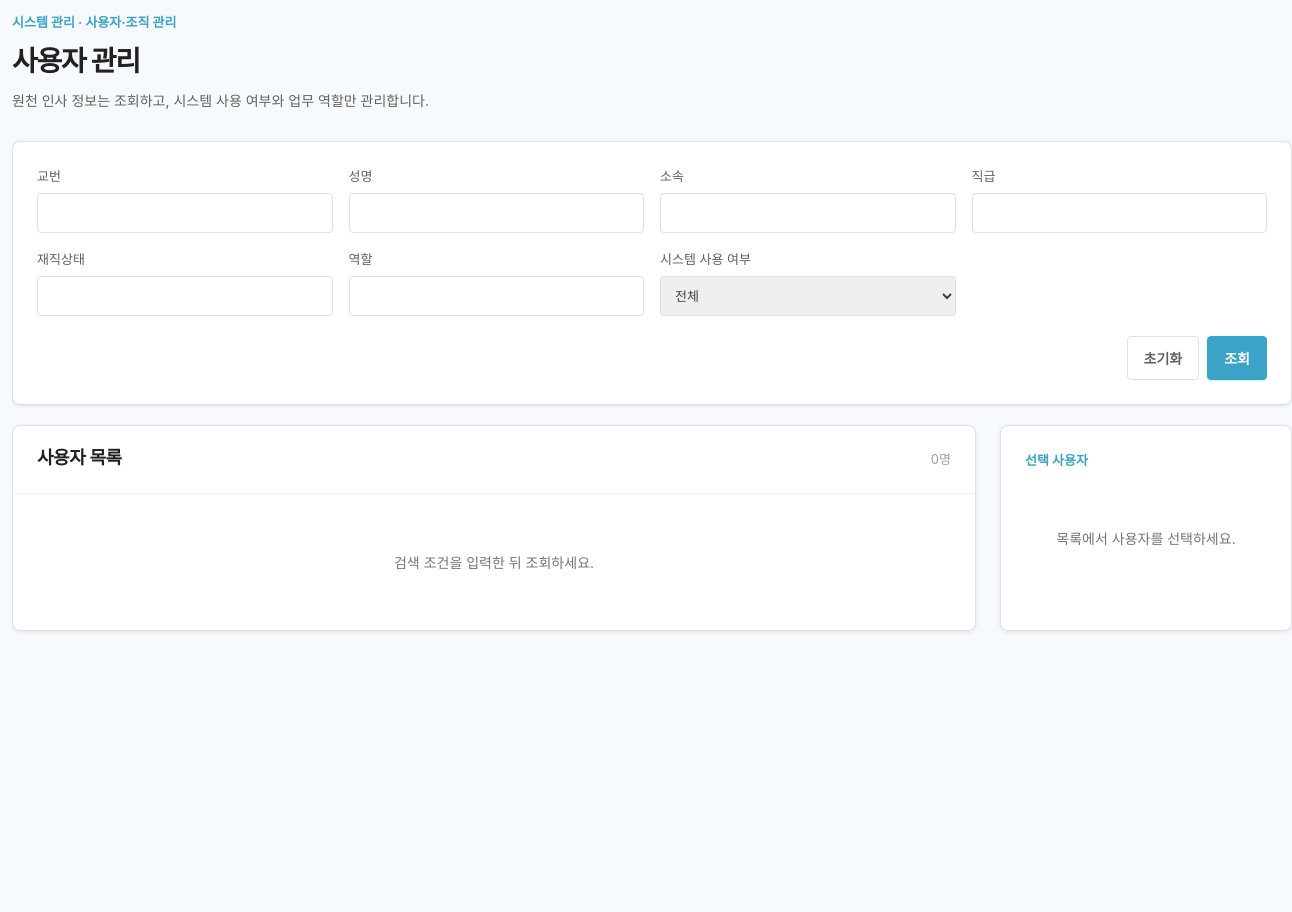
UserManagementPage › renders an access denied state when the user API returns 403
The width and height of the screenshot is (1292, 912).
Click the button "조회" at (1237, 358), box [1207,336,1267,380]
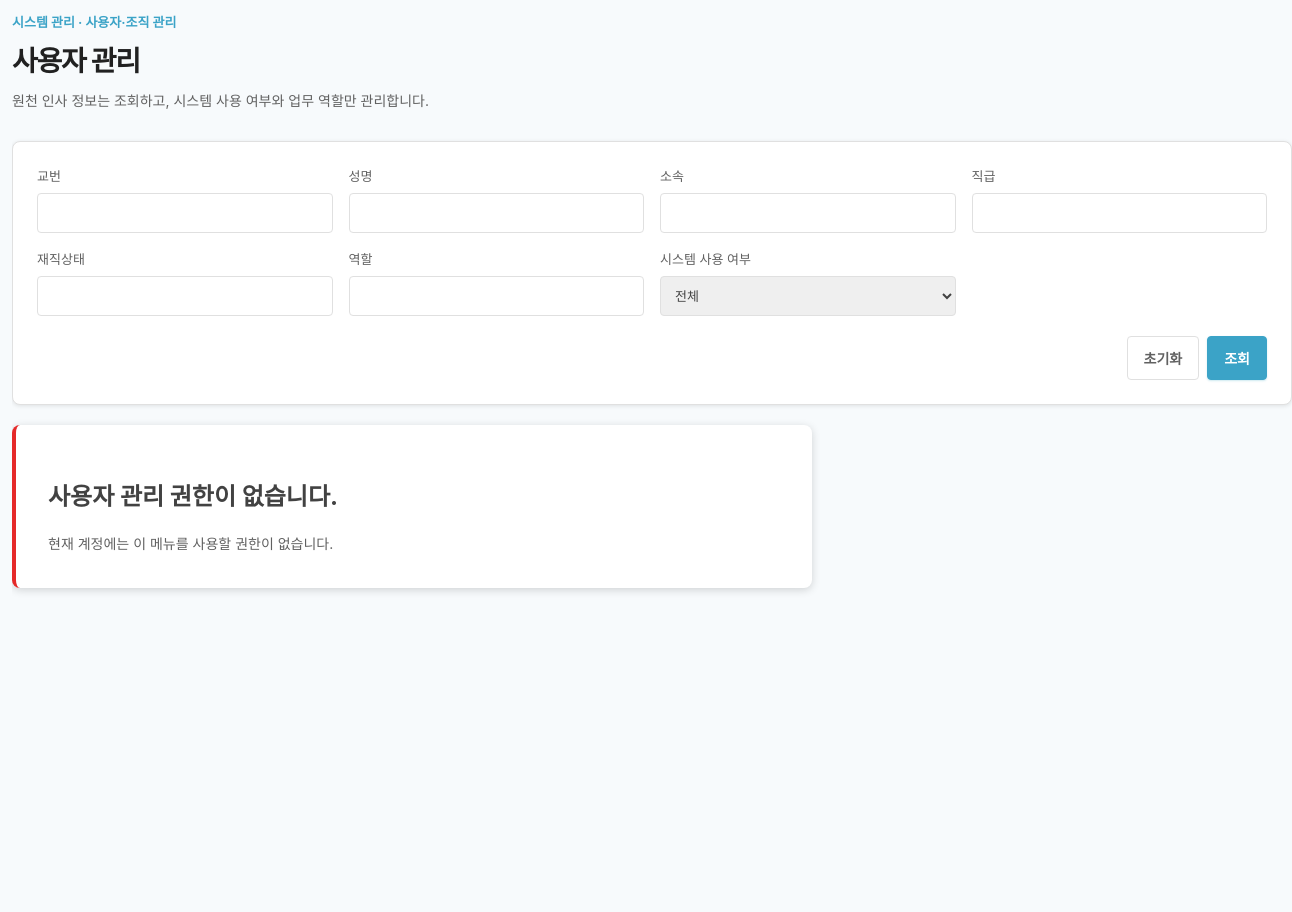
expect the heading "사용자 관리 권한이 없습니다." is shown: met, box [48,482,338,511]
